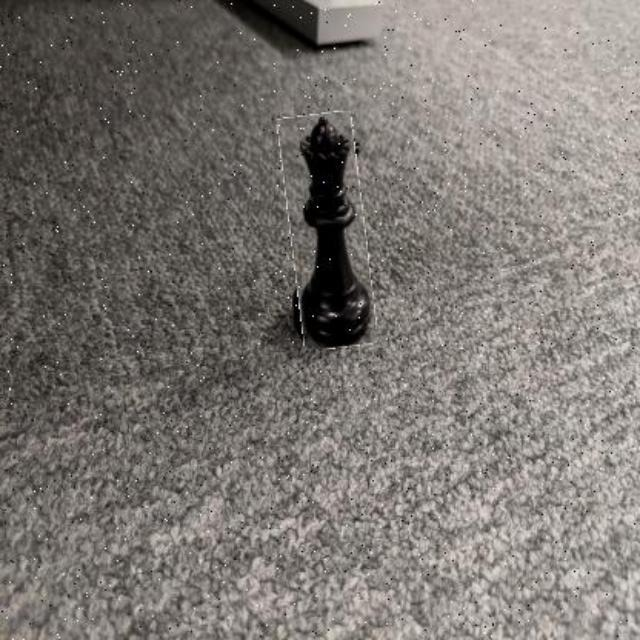black-queen: (284, 113, 371, 349)
